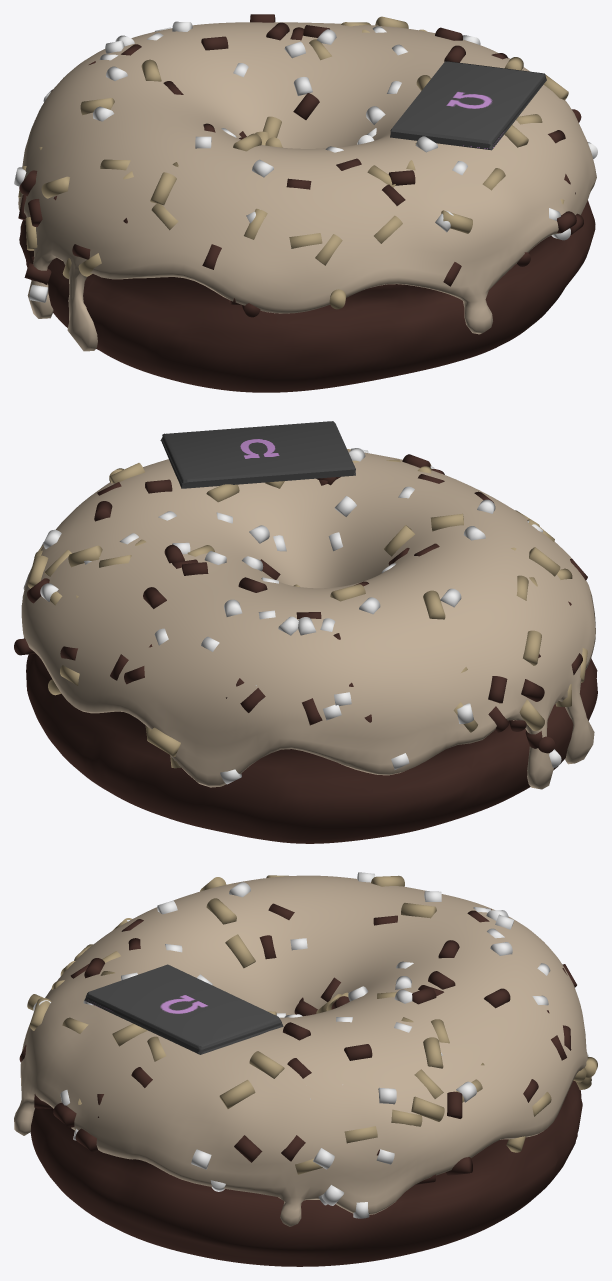
File: donut.gltf
3 views of the same model, one above another, from view 1: azimuth 30°, elevation 25°; view 2: azimuth 150°, elevation 25°; view 3: azimuth 270°, elevation 25° (orthographic). The views are drawn at different scales.
Parts seen in each view (by area): view 1: icing_Torus.003, Donut_Torus.002, Plane, Cylinder.062; view 2: icing_Torus.003, Donut_Torus.002, Plane; view 3: icing_Torus.003, Donut_Torus.002, Plane, Cylinder.194, Cylinder.020.
Boxes of the visible parts, left/top/right/bottom form: icing_Torus.003: left=18, top=22, right=596, bottom=351; Donut_Torus.002: left=19, top=200, right=595, bottom=392; Plane: left=390, top=61, right=546, bottom=150; Cylinder.062: left=150, top=172, right=176, bottom=205; icing_Torus.003: left=21, top=450, right=595, bottom=789; Donut_Torus.002: left=26, top=653, right=597, bottom=843; Plane: left=160, top=421, right=355, bottom=488; icing_Torus.003: left=14, top=875, right=591, bottom=1226; Donut_Torus.002: left=30, top=1080, right=582, bottom=1266; Plane: left=84, top=964, right=283, bottom=1054; Cylinder.194: left=219, top=1080, right=255, bottom=1108; Cylinder.020: left=411, top=1096, right=444, bottom=1121.
Bounding box in the file's own units: 12.65 × 5.34 × 12.23.
5 materials, 1 textured.
